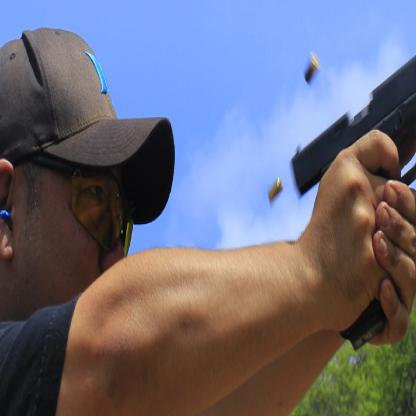gun: (281, 0, 415, 321)
